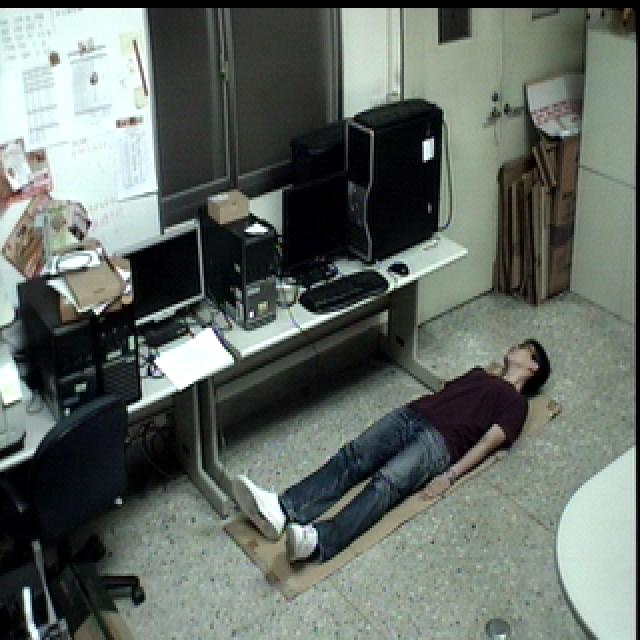lie: (228, 333, 559, 560)
